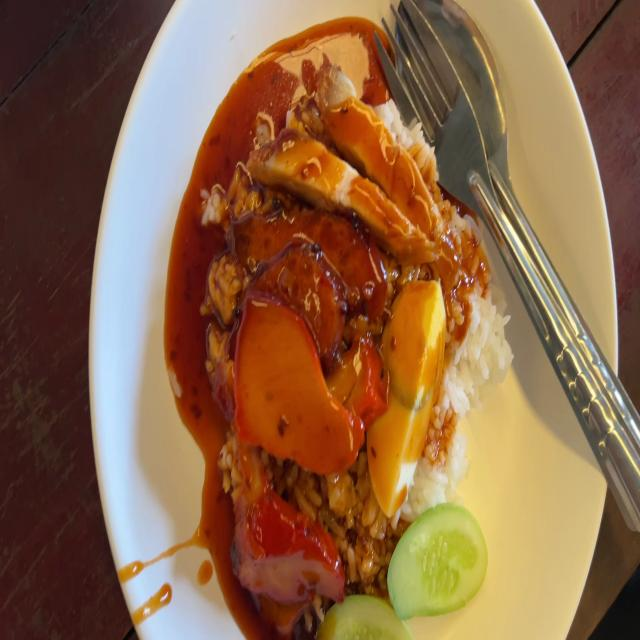boiled_egg: (368, 282, 442, 509)
chainese_sausage: (239, 190, 383, 338)
crispy_pork: (258, 59, 439, 253)
cucumber: (392, 504, 486, 616), (321, 593, 403, 640)
red_pork: (235, 296, 359, 476), (233, 481, 342, 600)
red_pork_and_crispy_pork: (206, 59, 510, 640)
